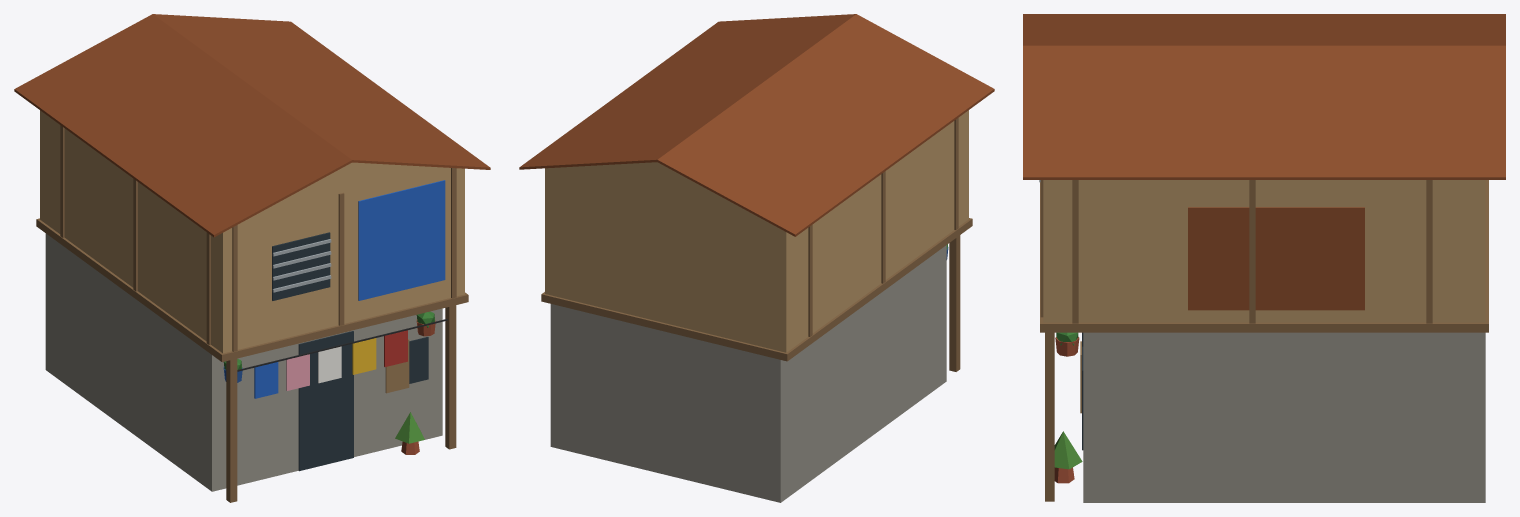
Rendered from BAY_I_Shanty2F_Q.glb.
The picture shows the model from 3 angles, left to right: view 1: azimuth 30°, elevation 25°; view 2: azimuth 150°, elevation 25°; view 3: azimuth 270°, elevation 25°; orthographic projection. The views are drawn at different scales.
Visible parts, largest first — view 1: BAY_I_Shanty2F_Q; view 2: BAY_I_Shanty2F_Q; view 3: BAY_I_Shanty2F_Q.
Part boxes in pixels (x1,y1,x2,y2): BAY_I_Shanty2F_Q: (14, 14, 490, 502); BAY_I_Shanty2F_Q: (519, 14, 994, 502); BAY_I_Shanty2F_Q: (1023, 14, 1505, 502).
Bounding box in the file's own units: 4.8 × 5.34 × 6.
Materials: 1 (1 with a texture image).
